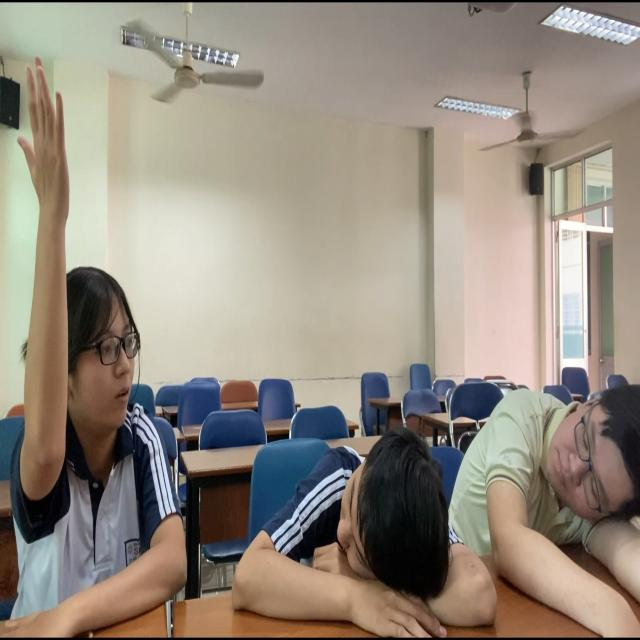raise_hand: (1, 50, 197, 640)
sleep: (246, 428, 467, 633), (461, 376, 640, 613)
